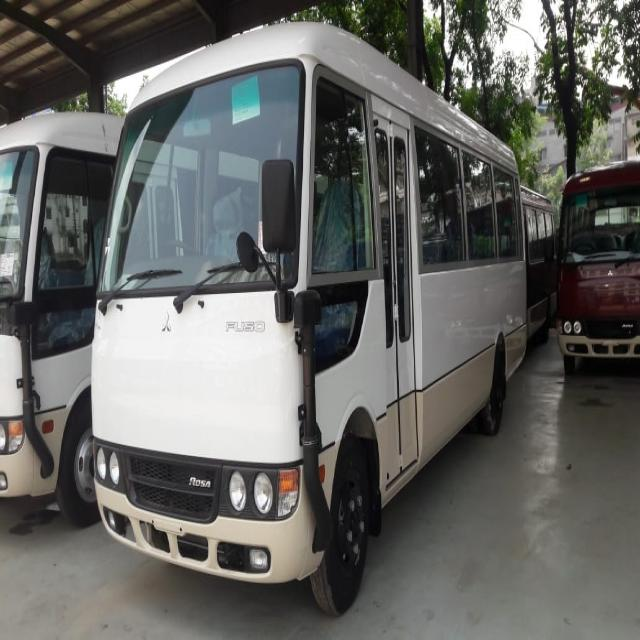bus: (80, 0, 538, 640), (0, 96, 102, 544), (547, 135, 640, 381)
